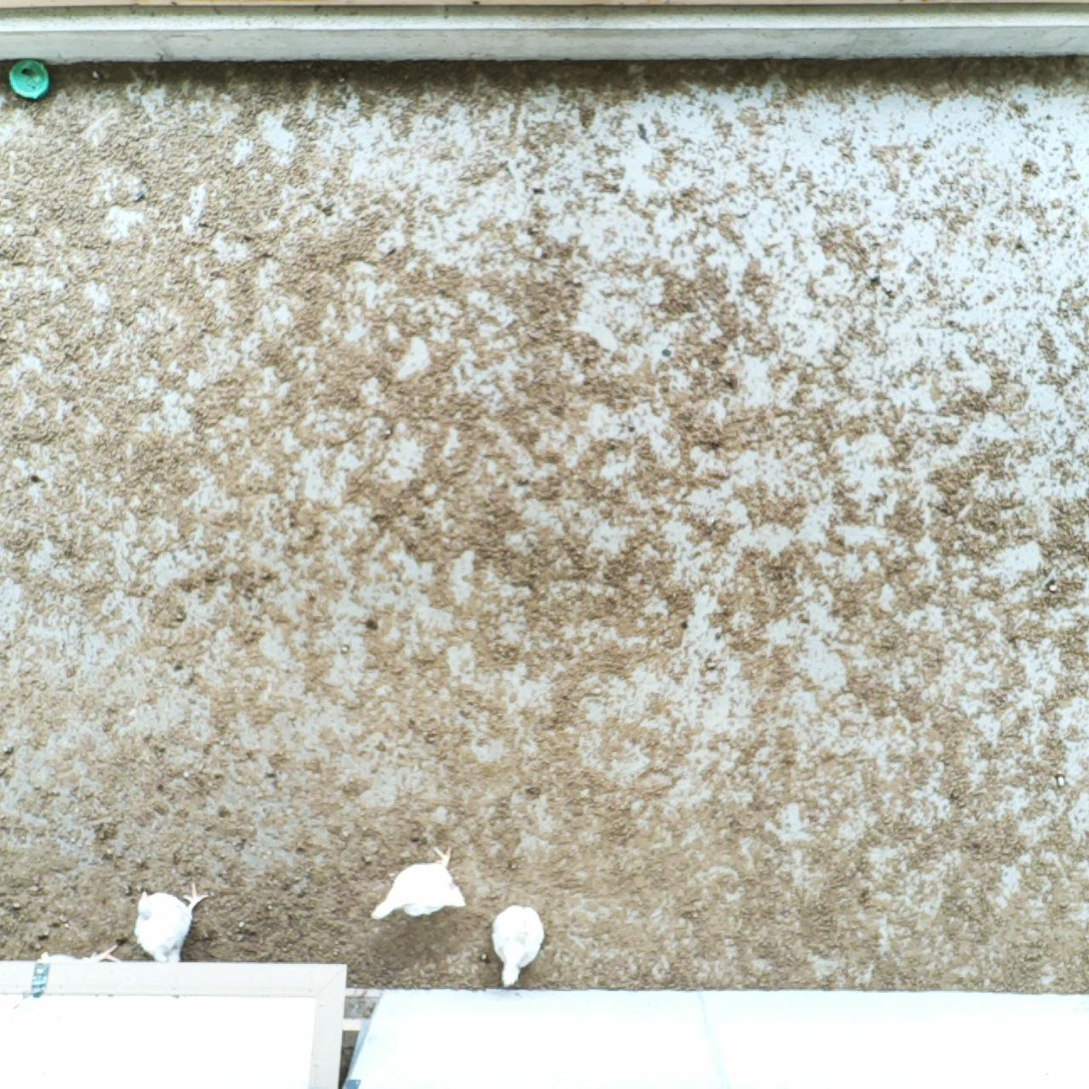chicken: (370, 845, 464, 928), (31, 941, 129, 1010), (132, 884, 208, 969), (488, 899, 548, 991)
